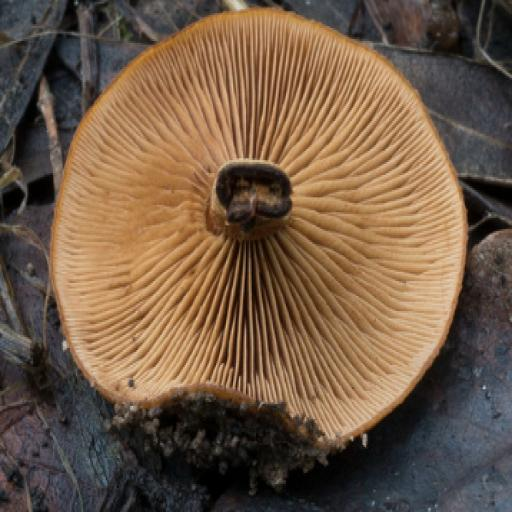Funeral Bell: (45, 6, 471, 445)
